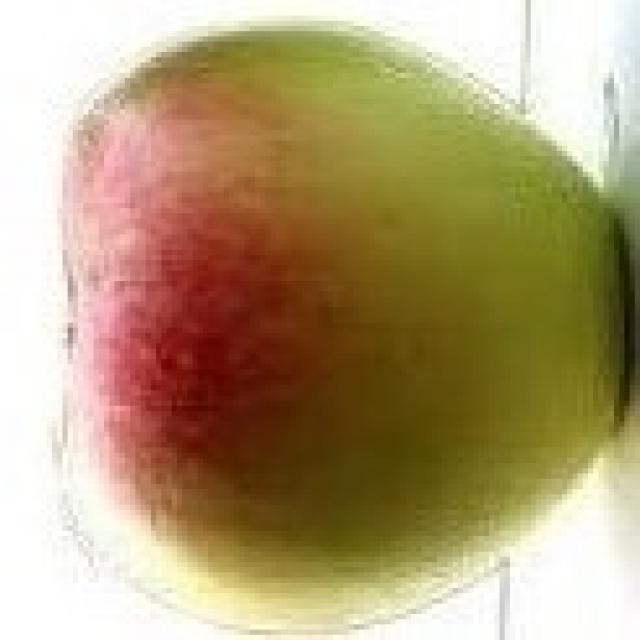75-_ripeness: (50, 18, 629, 631)
